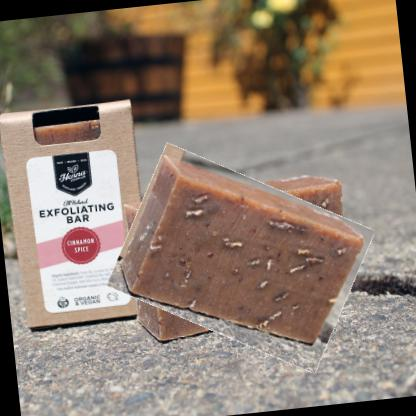soap: (106, 145, 375, 370)
